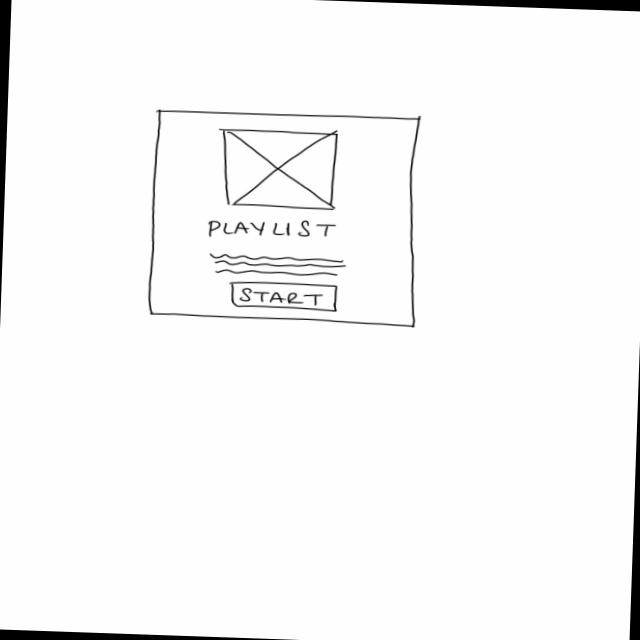button: (230, 281, 341, 313)
container: (147, 108, 424, 328)
image: (220, 128, 341, 212)
label: (207, 217, 339, 245)
textbox: (208, 253, 348, 280)
